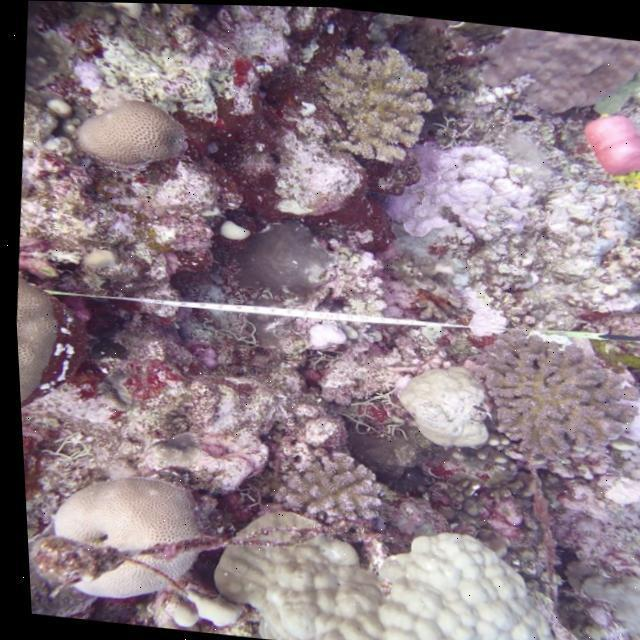Bleached Coral: (197, 524, 566, 640), (366, 121, 554, 249), (263, 424, 385, 544), (374, 343, 499, 457)
Healthy Coral: (72, 100, 205, 171), (13, 276, 58, 409)
